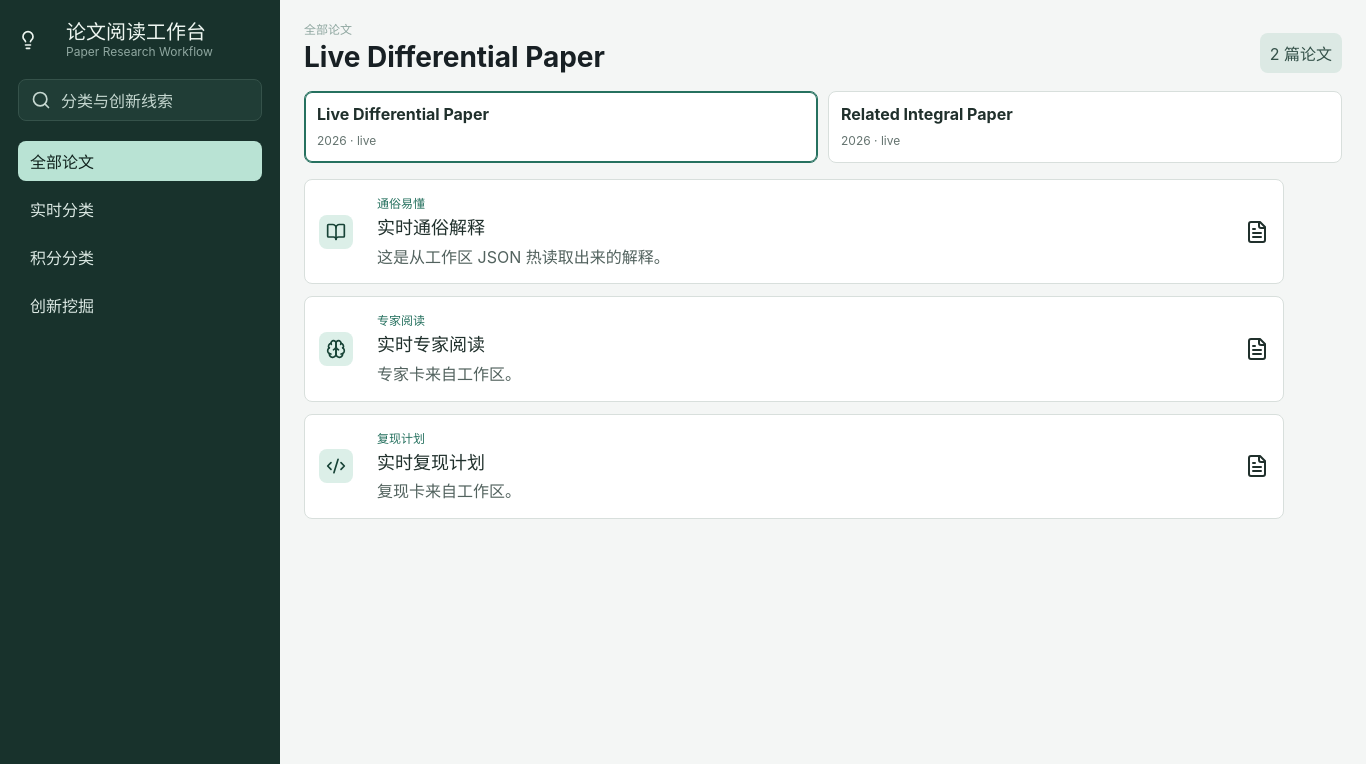
Scenario: Paper research workbench › generates append-only platform prompts from innovation reader input
The width and height of the screenshot is (1366, 764).
Step 1. Click the button "创新挖掘" → click(140, 305), box 18,285 -> 262,325
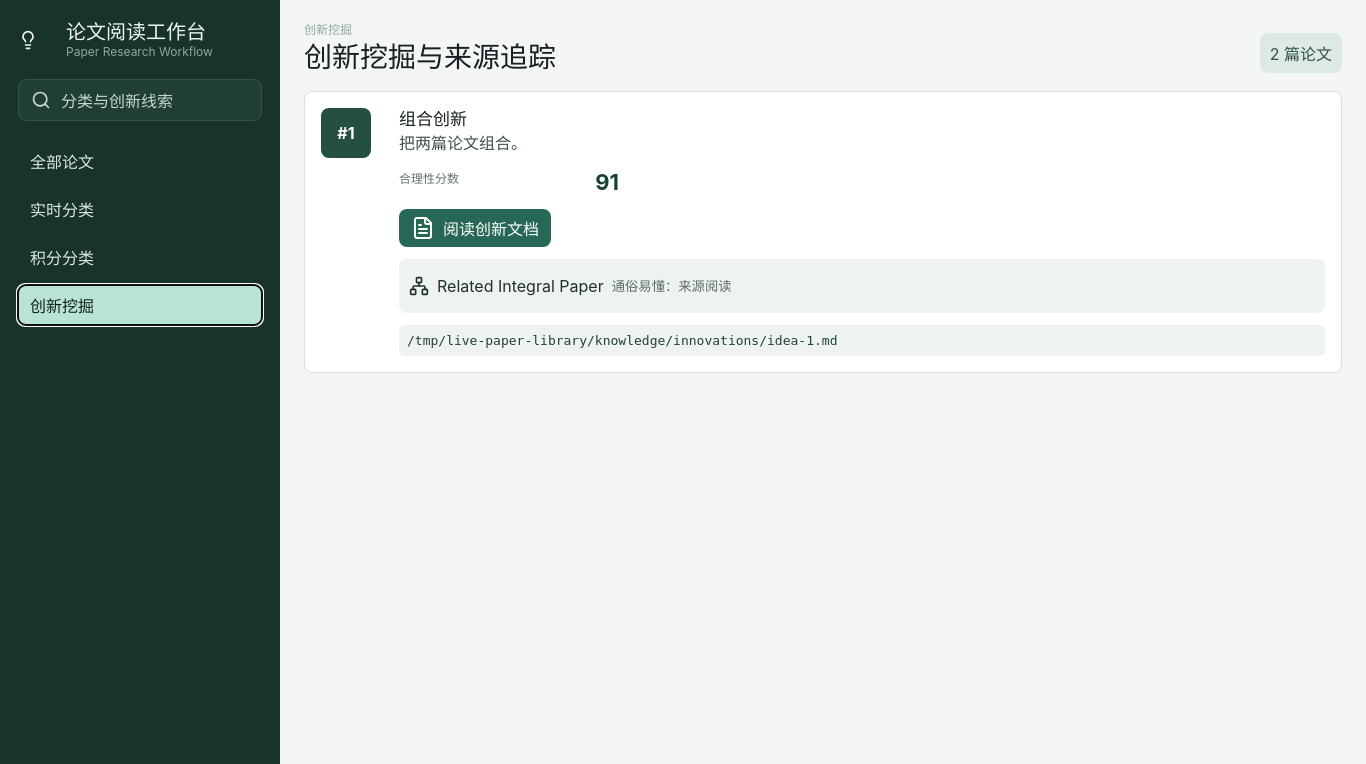
Step 2. Click the button "阅读创新文档" → click(475, 228), box 399,209 -> 551,247
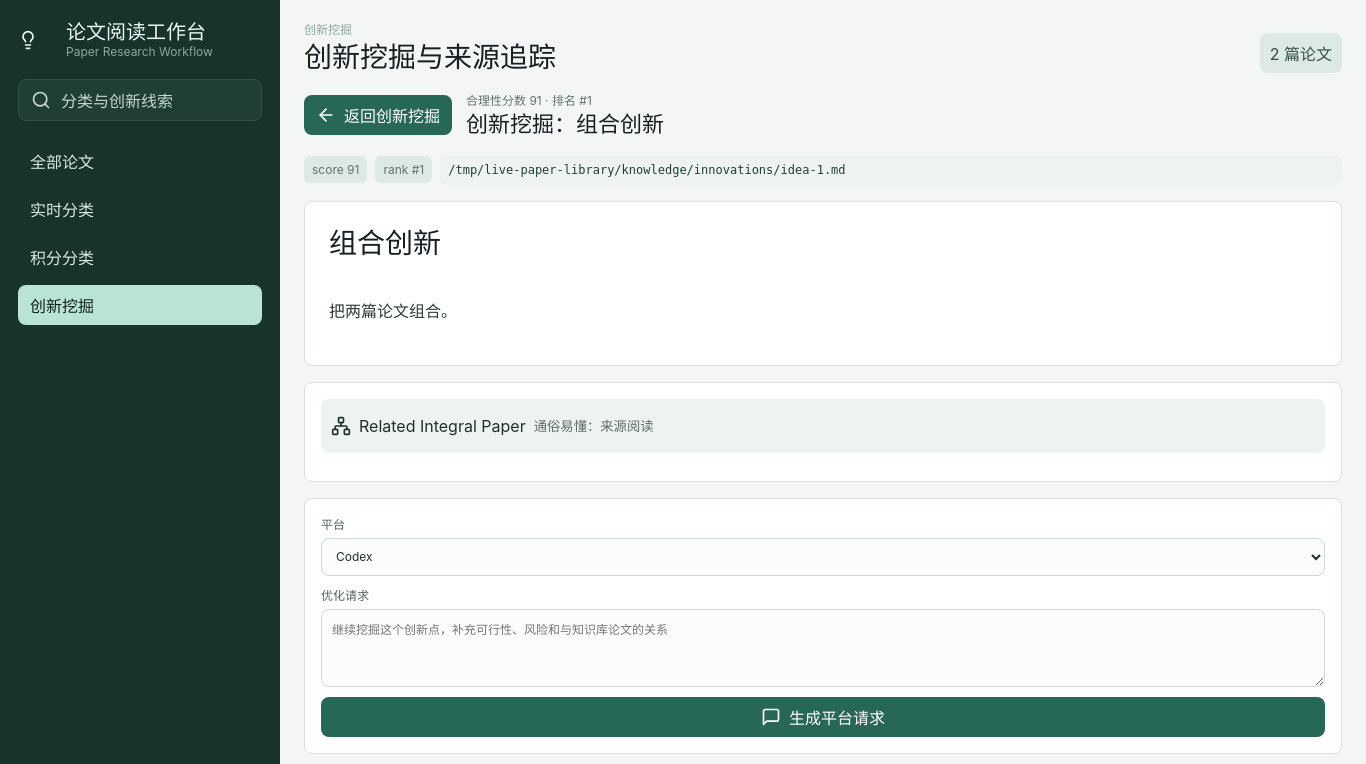
Step 3. Type "请给这个创新点补充实验验证路线" into the text box labelled "优化请求" → (823, 648), box 321,609 -> 1325,687
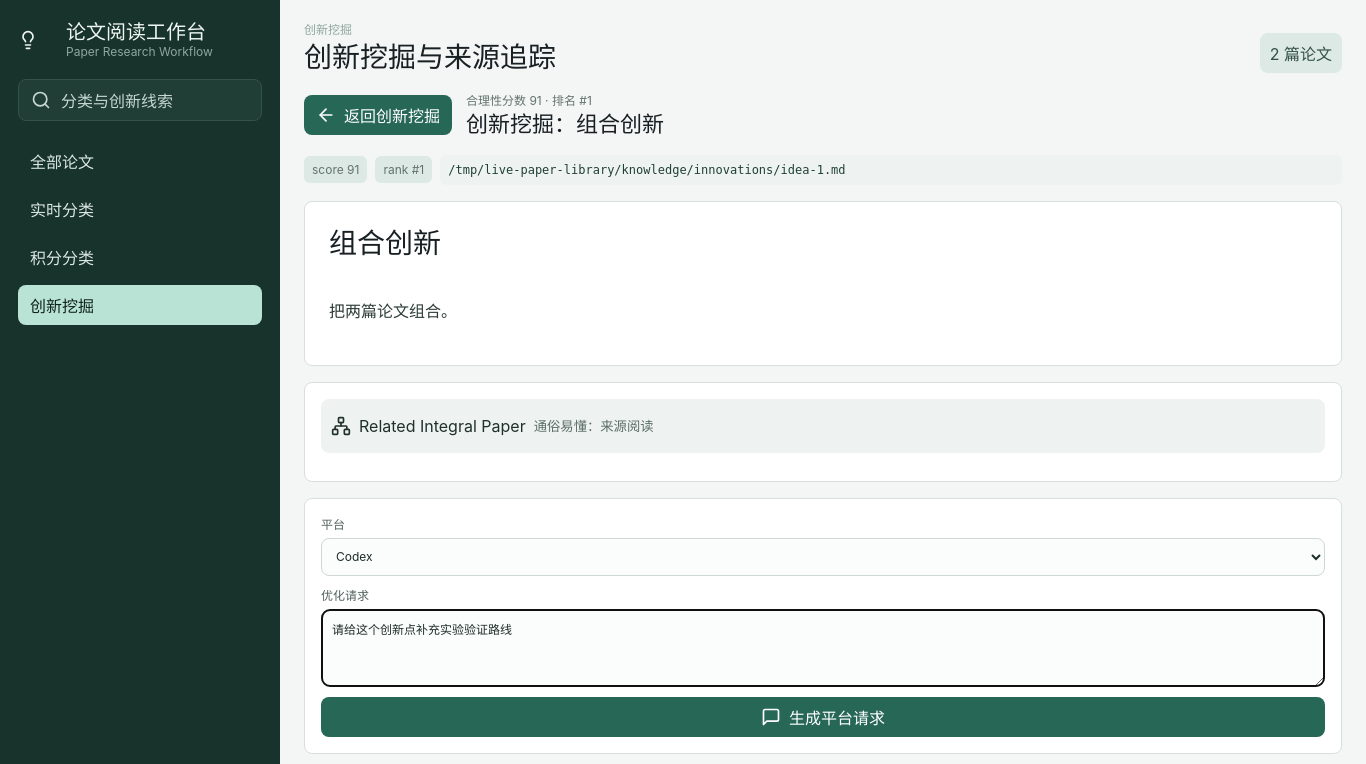
Step 4. Click the button "生成平台请求" → click(823, 717), box 321,697 -> 1325,737
(page scrolled)
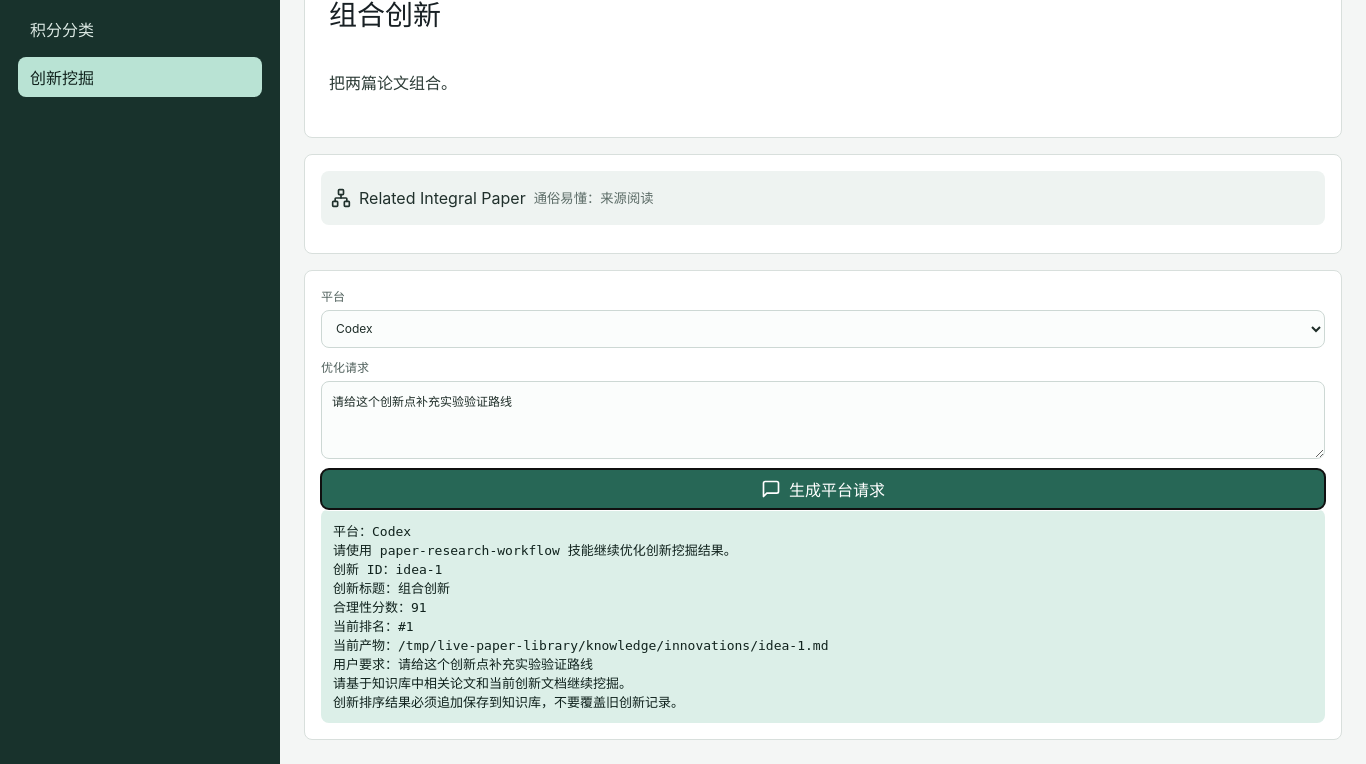
Check: the text named "创新挖掘平台请求" shows "请给这个创新点补充实验验证路线", box 333,524 -> 828,710
Check: the text named "创新挖掘平台请求" shows "追加保存到知识库", box 333,524 -> 828,710
